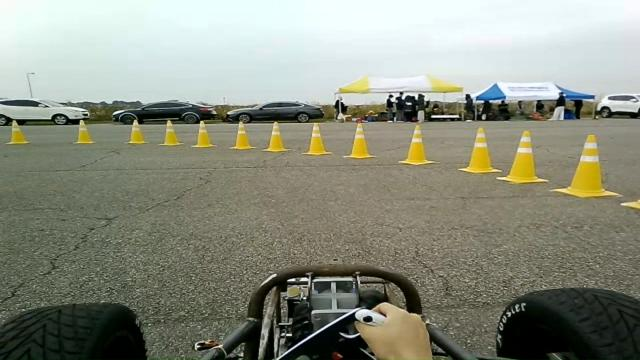yellow cone: (550, 134, 622, 198), (496, 130, 548, 184), (457, 127, 502, 174), (397, 124, 438, 166), (342, 122, 377, 159), (301, 122, 332, 156), (262, 121, 291, 152), (228, 120, 256, 150), (191, 120, 217, 148), (158, 119, 184, 146), (124, 119, 149, 144), (5, 120, 31, 144), (73, 119, 95, 144), (620, 198, 639, 210)
